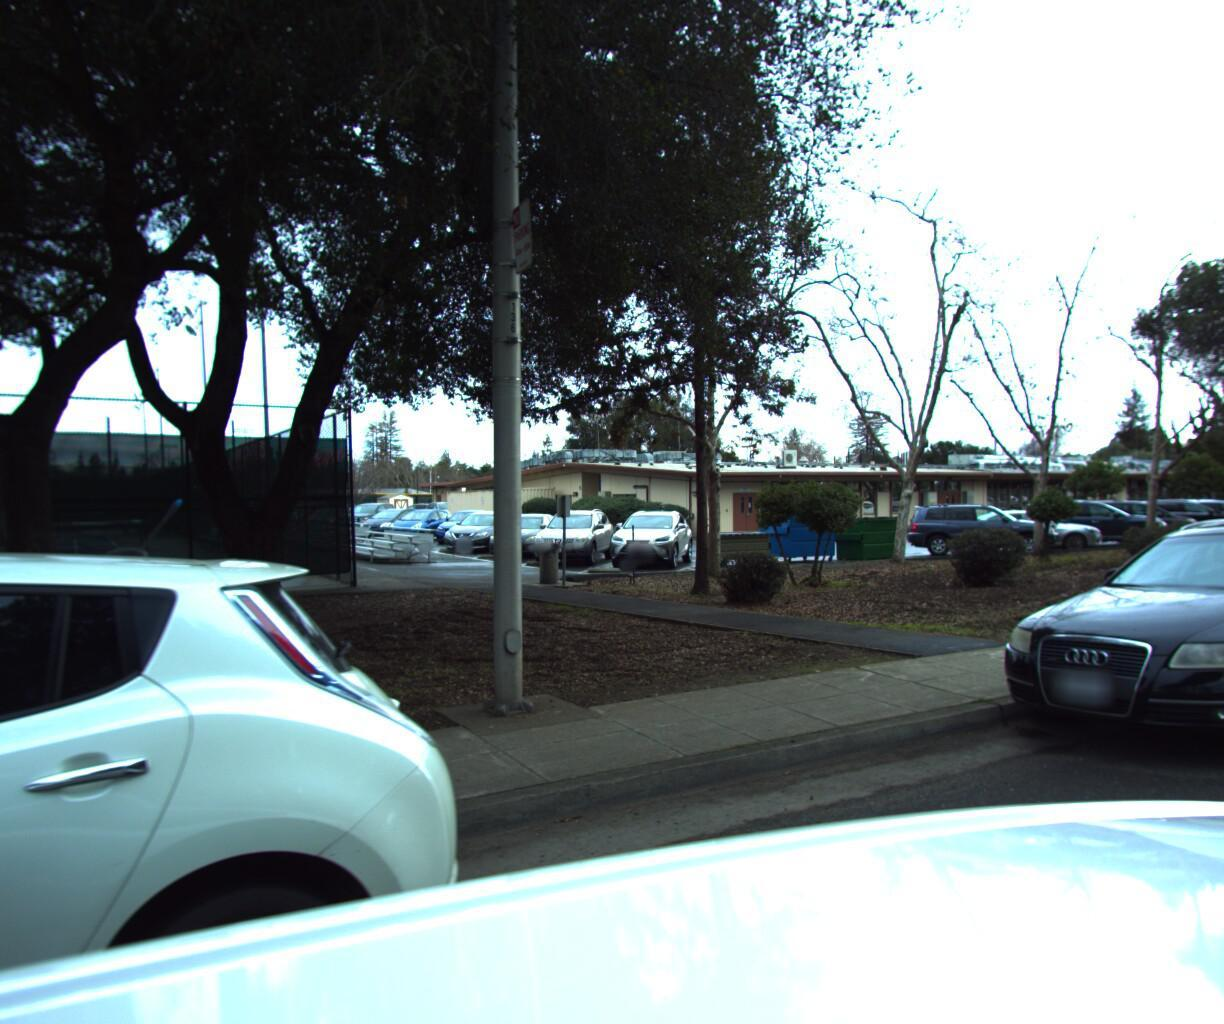car: (0, 527, 550, 1024), (967, 502, 1224, 823)
